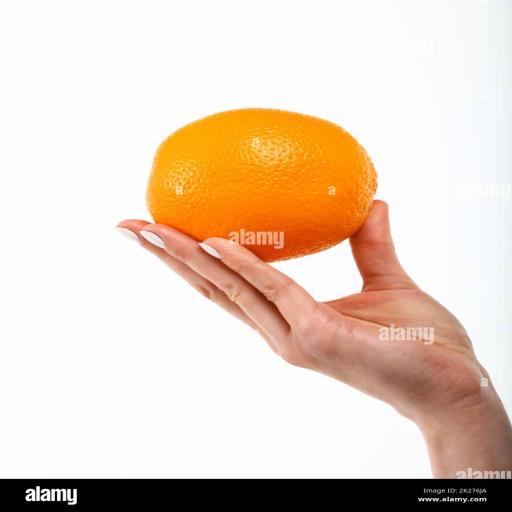orange: (147, 109, 376, 261)
